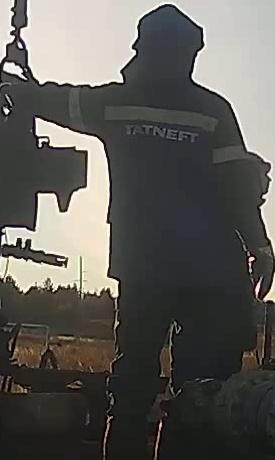gloves: (238, 230, 275, 302)
helmet: (248, 150, 274, 184)
vest: (62, 78, 249, 289)
